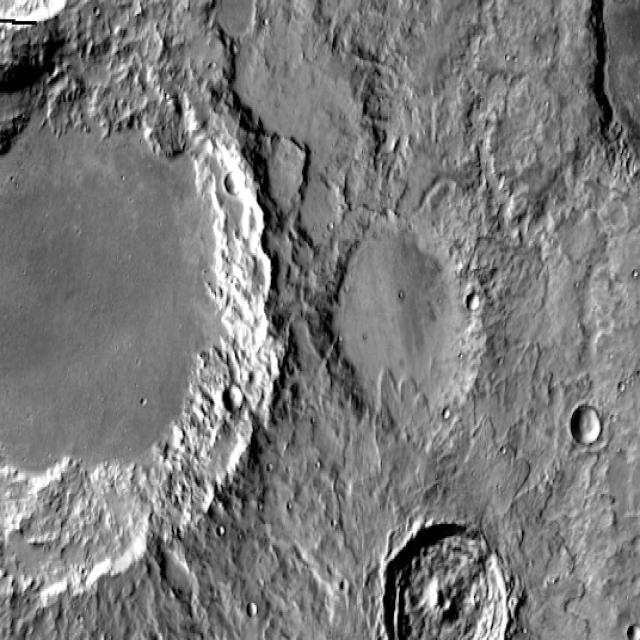Crater: (0, 49, 291, 589), (369, 513, 525, 640), (592, 0, 640, 199), (0, 0, 115, 35)
